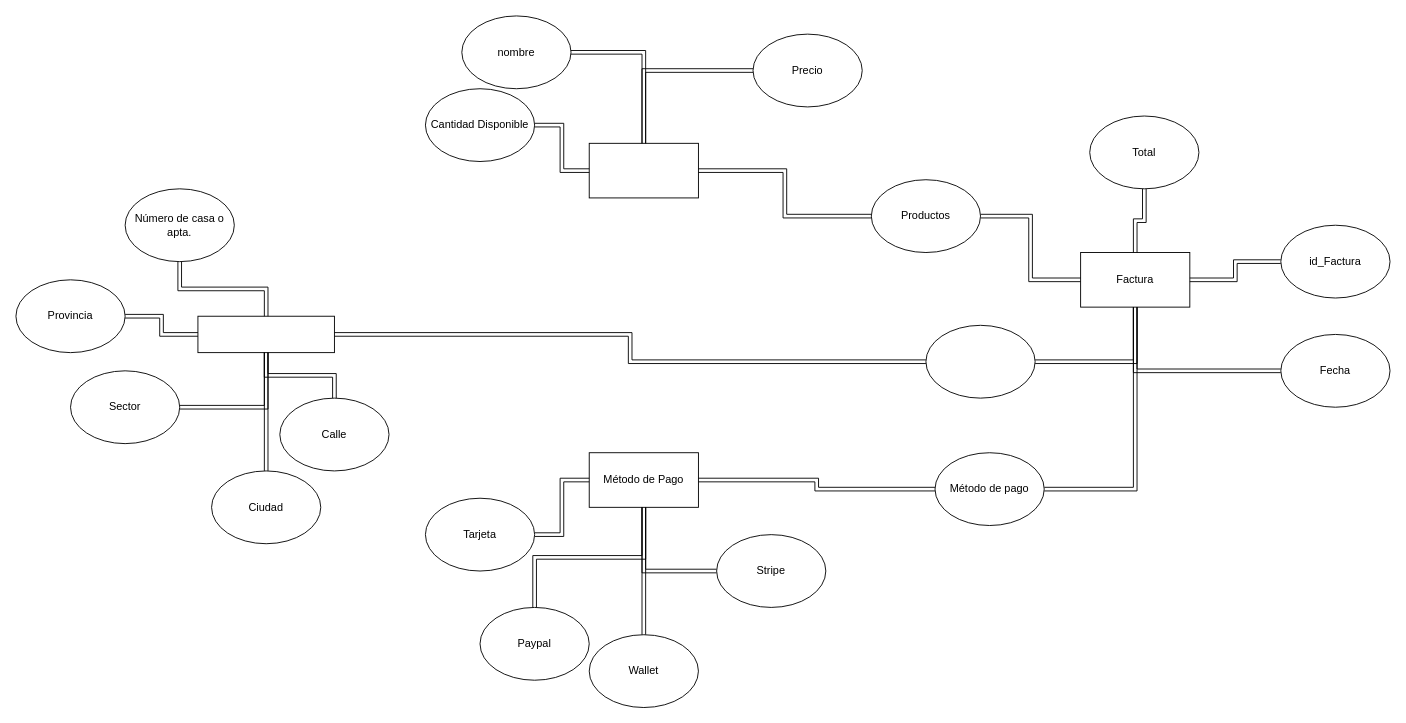
This 1406x723 diagram has some shape labels left out. The centre of each missing label's shape, as x and y in pixels:
"Dirección" goes at [980,361].
"Dirección de facturación/ Billing" goes at [265,334].
"Producto" goes at [643,170].
